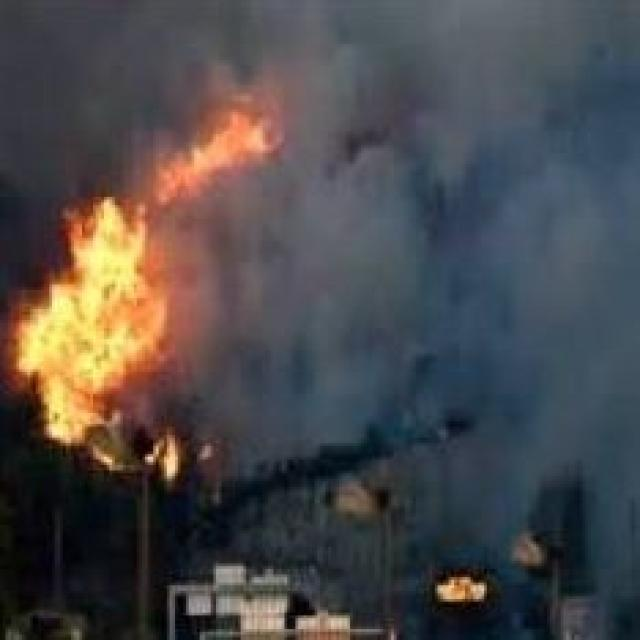Fire: (22, 116, 270, 458)
Smoke: (108, 18, 614, 554)
